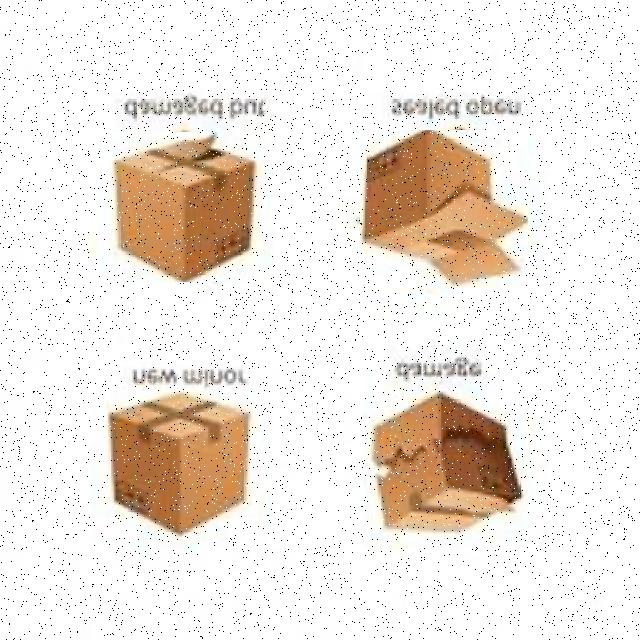defect: (360, 130, 528, 288), (369, 391, 525, 537)
normal: (111, 132, 263, 282), (106, 391, 259, 540)
